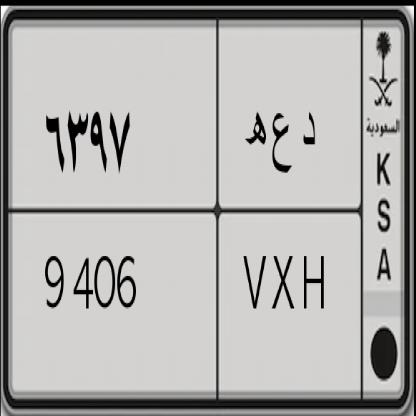english: (4, 202, 367, 400)
